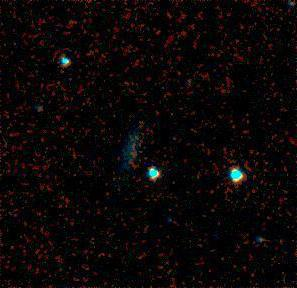star: (219, 179, 249, 209)
